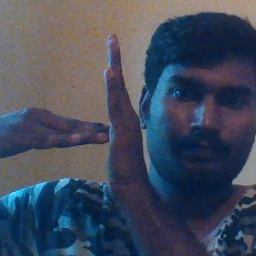Z: (37, 31, 149, 198)
